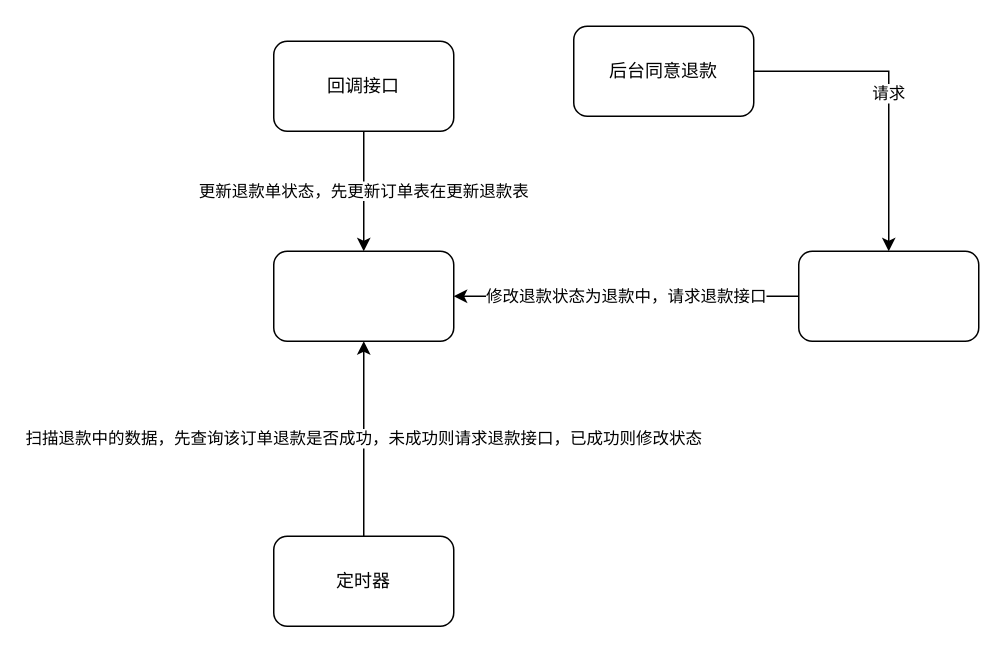
Image size: 1005x653. Some labels were removed from this diagram. Here are the shapes that lost their labels. From the top down, the centre of each, then its label:
At (363,295): "退款表tc_refund_order".
At (888,295): "同意退款接口".
